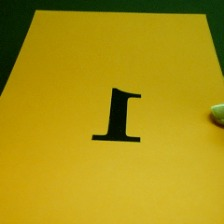orange1: (82, 84, 150, 148)
